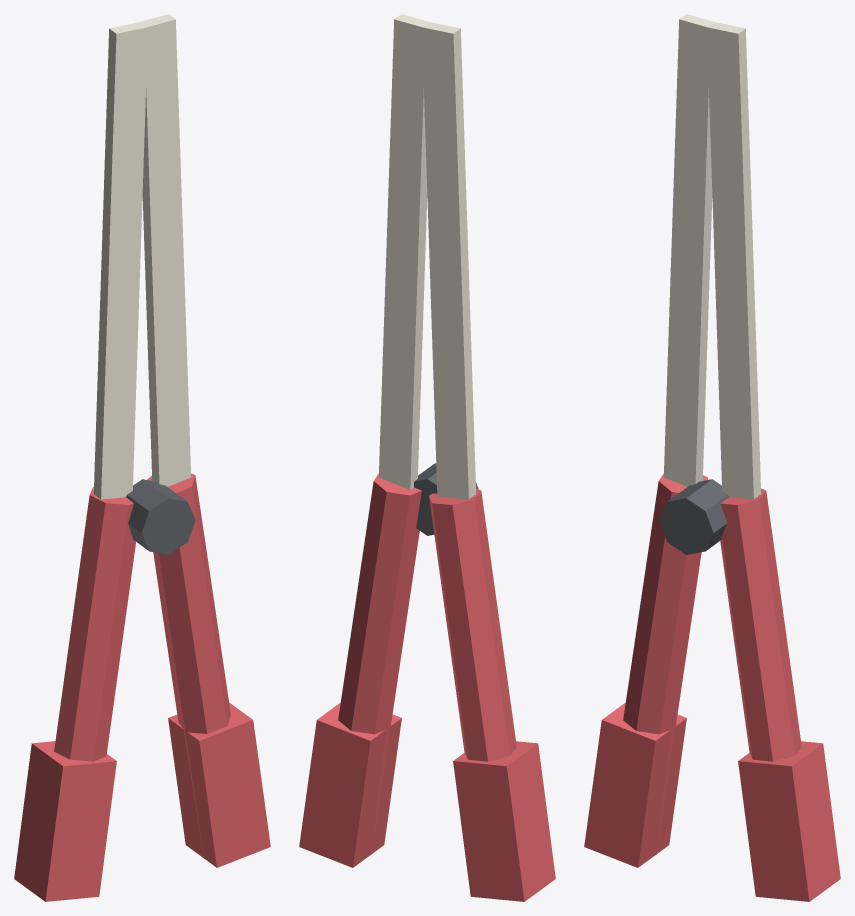
Rendered from lawn-mowing-simulator-kit-garden-shears-41635541__27376.glb.
The picture shows the model from 3 angles, left to right: view 1: azimuth 30°, elevation 25°; view 2: azimuth 150°, elevation 25°; view 3: azimuth 330°, elevation 25°; orthographic projection.
Visible parts, largest first — view 1: garden-shears; view 2: garden-shears; view 3: garden-shears.
Boxes of the visible parts, <box> form: garden-shears: <box>14,14,270,901</box>; garden-shears: <box>299,14,555,901</box>; garden-shears: <box>584,14,840,901</box>.
Size of the model in its own units: 0.2489 by 0.8942 by 0.08.
